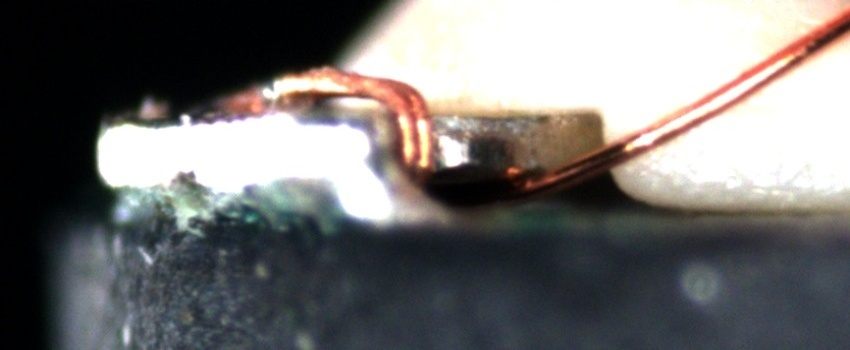TE: (240, 59, 439, 196)
